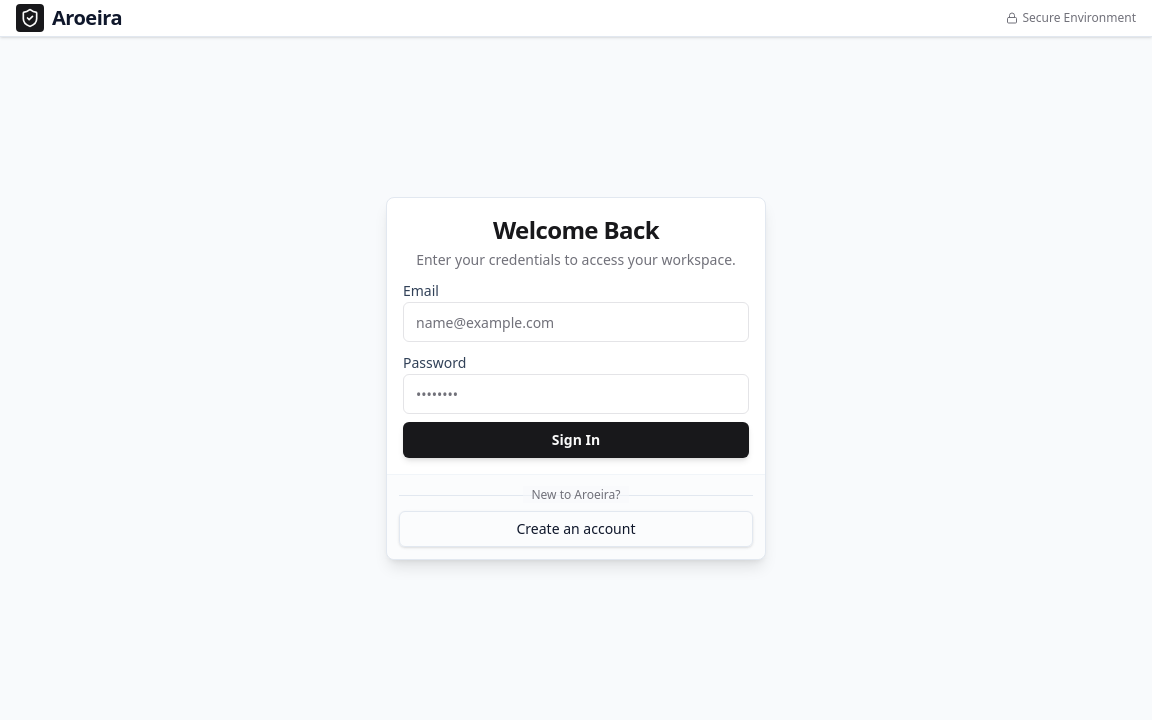
Test: Login Page › switches to register form
This screenshot has width=1152, height=720.
Click the button "Create an account" at coordinates (576, 529), box [399,511,753,547]
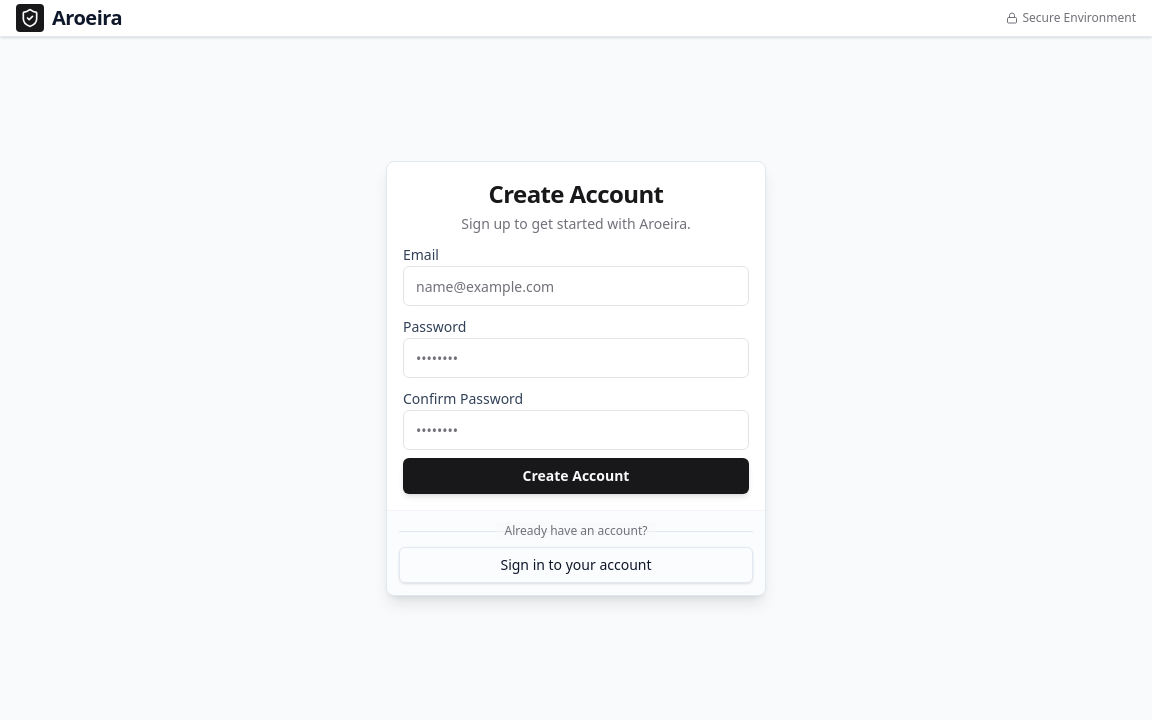
Check: the heading "Create Account" is shown, box [489,177,664,210]
Check: the password field labelled "Confirm Password" is shown, box [403,410,749,450]
Check: the button "Create Account" is shown, box [403,458,749,494]
